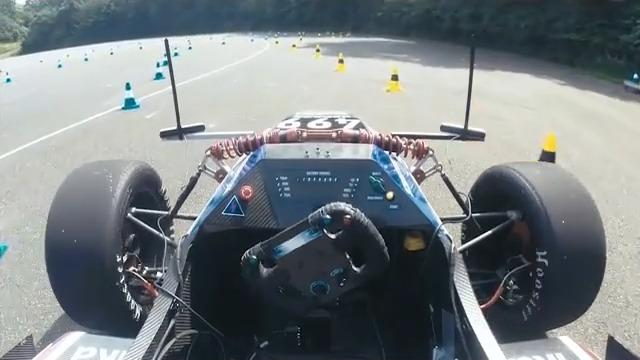blue_cone: (120, 80, 141, 111), (0, 229, 10, 260), (153, 62, 166, 81), (161, 52, 169, 67)
yellow_cone: (532, 132, 561, 181), (386, 68, 404, 92), (336, 52, 347, 73)
